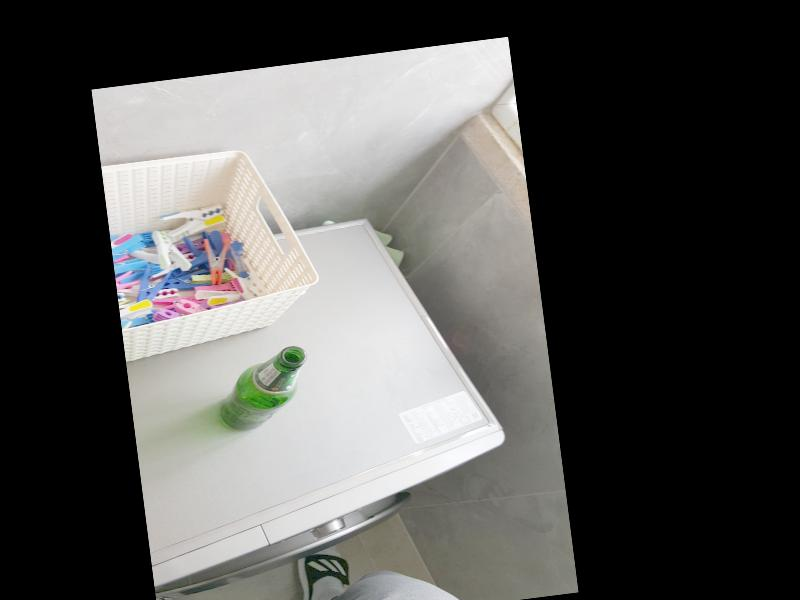Beer: (213, 345, 315, 434)
